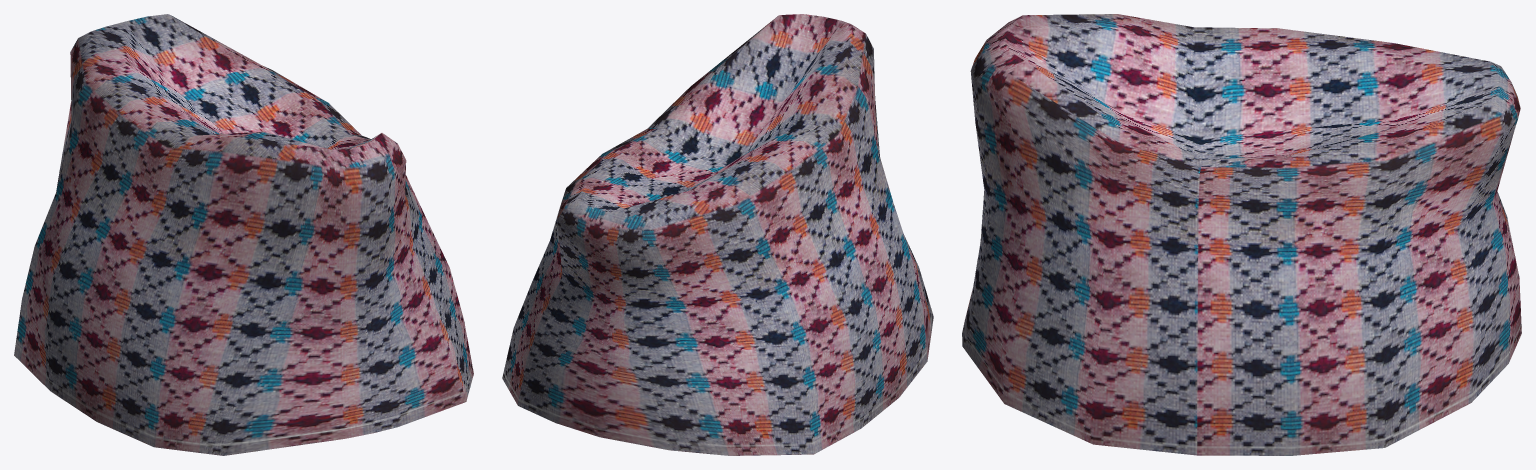
File: nepali_dhaka_topi_3d_model.glb
3 views of the same model, side by side, from view 1: azimuth 30°, elevation 25°; view 2: azimuth 150°, elevation 25°; view 3: azimuth 270°, elevation 25° (orthographic). The views are drawn at different scales.
Parts seen in each view (by area): view 1: Box001_2; view 2: Box001_2; view 3: Box001_2.
Part boxes in pixels (x1,y1,x2,y2): Box001_2: [14, 14, 473, 455]; Box001_2: [502, 14, 933, 455]; Box001_2: [962, 14, 1521, 455].
Bounding box in the file's own units: 61.8 × 51.2 × 79.09.
1 material, 1 textured.
